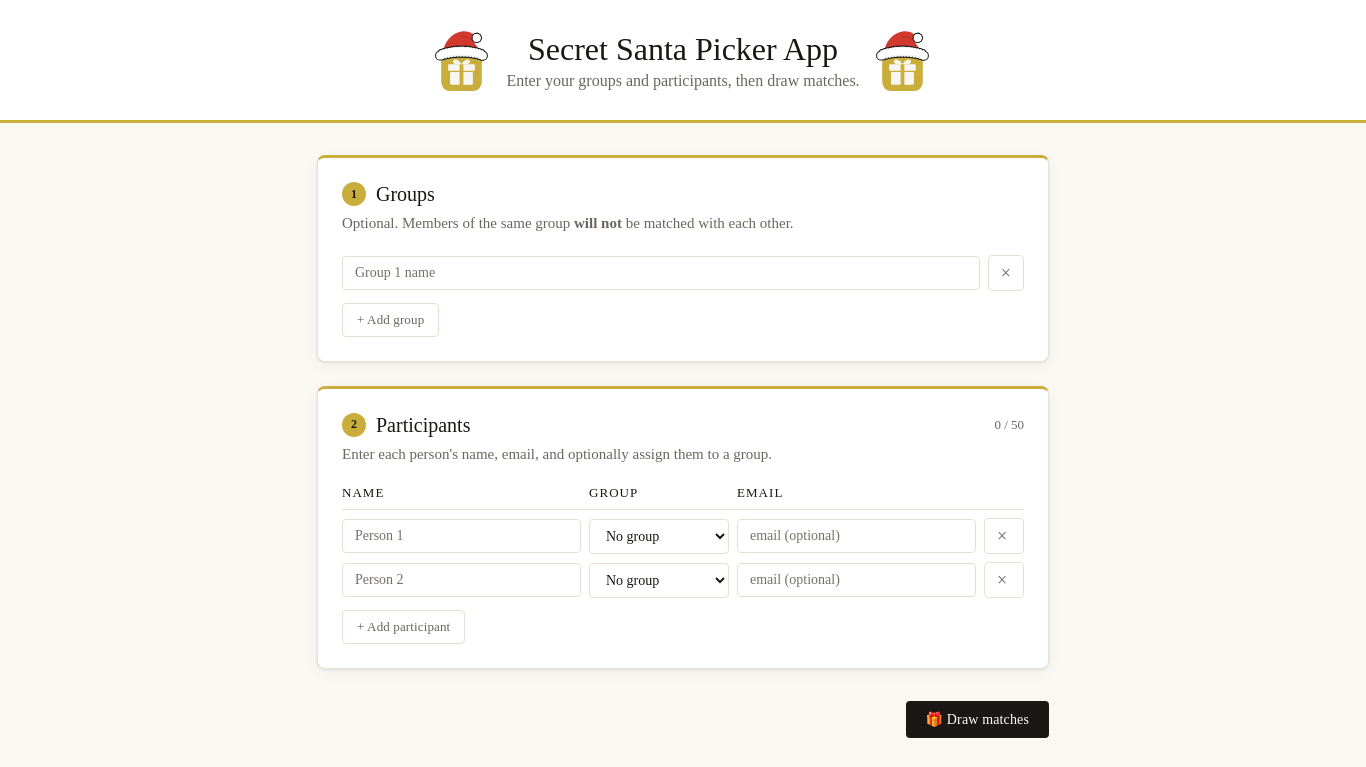
Test: home form › asks for at least two participants
Type "Ann" into the field named "Person 1 name" at (462, 536), box [342,519,581,553]
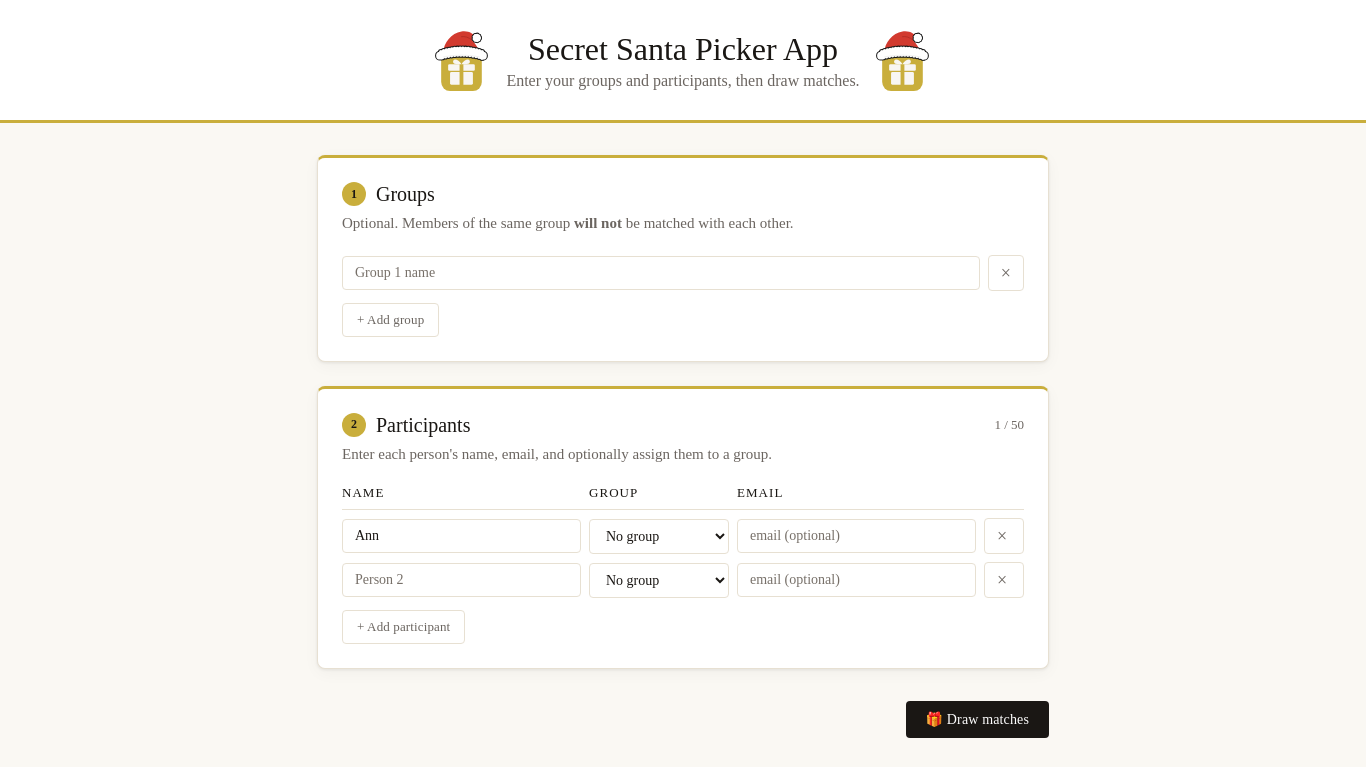
Click the button "🎁 Draw matches" at (977, 720), box [906,701,1049,738]
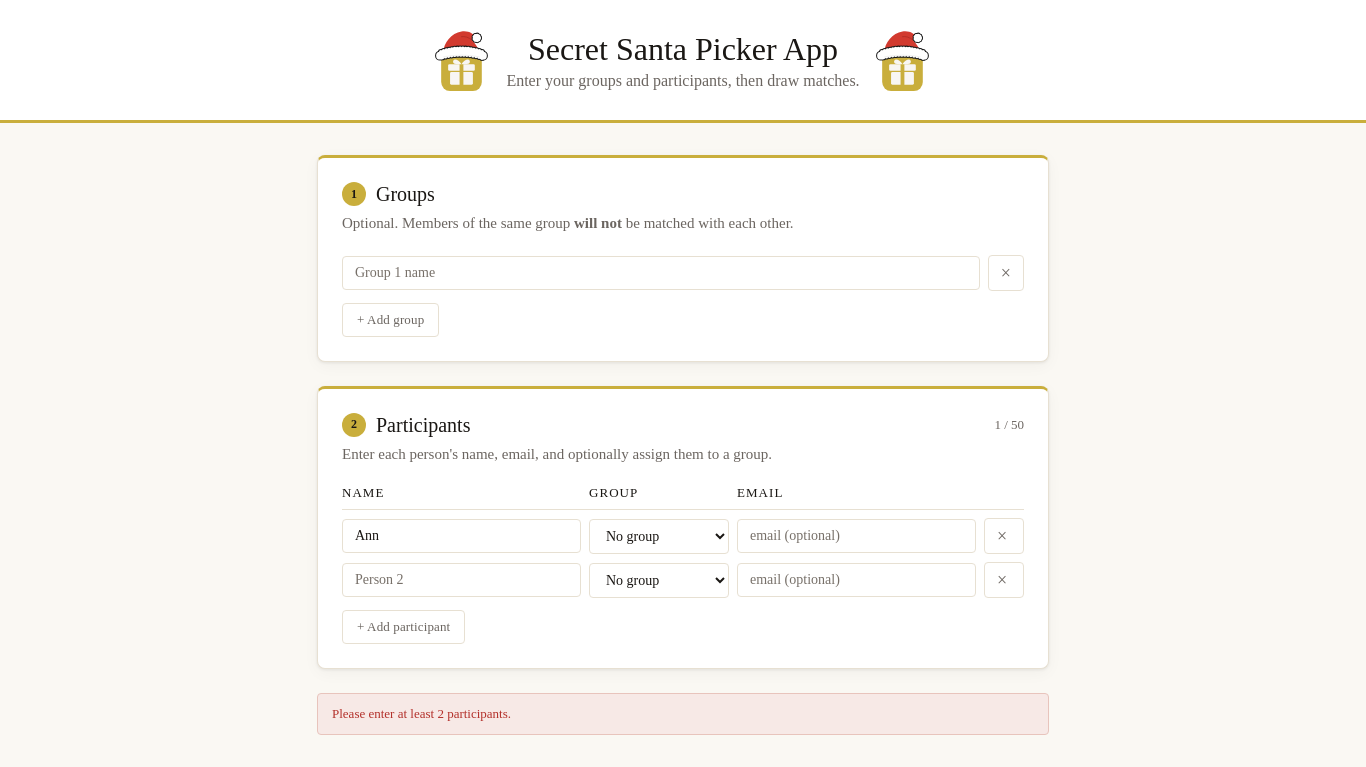
Expected: the text "Please enter at least 2 participants." is shown, [317,693,1049,734]
